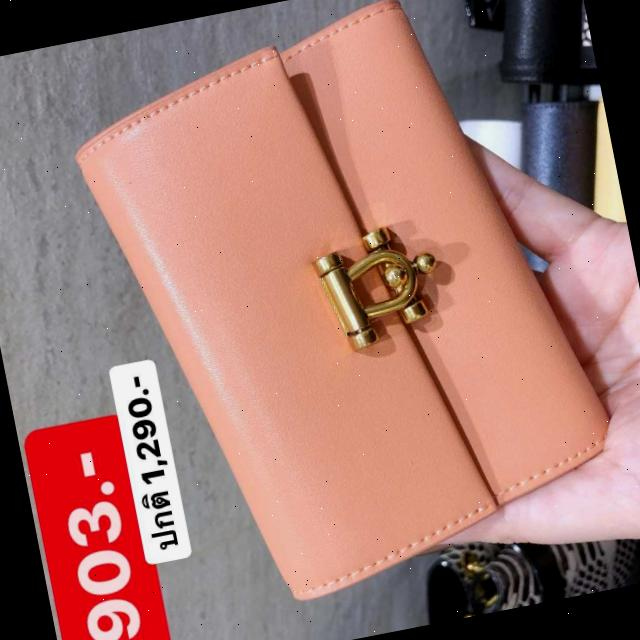handbag: (51, 0, 621, 633)
